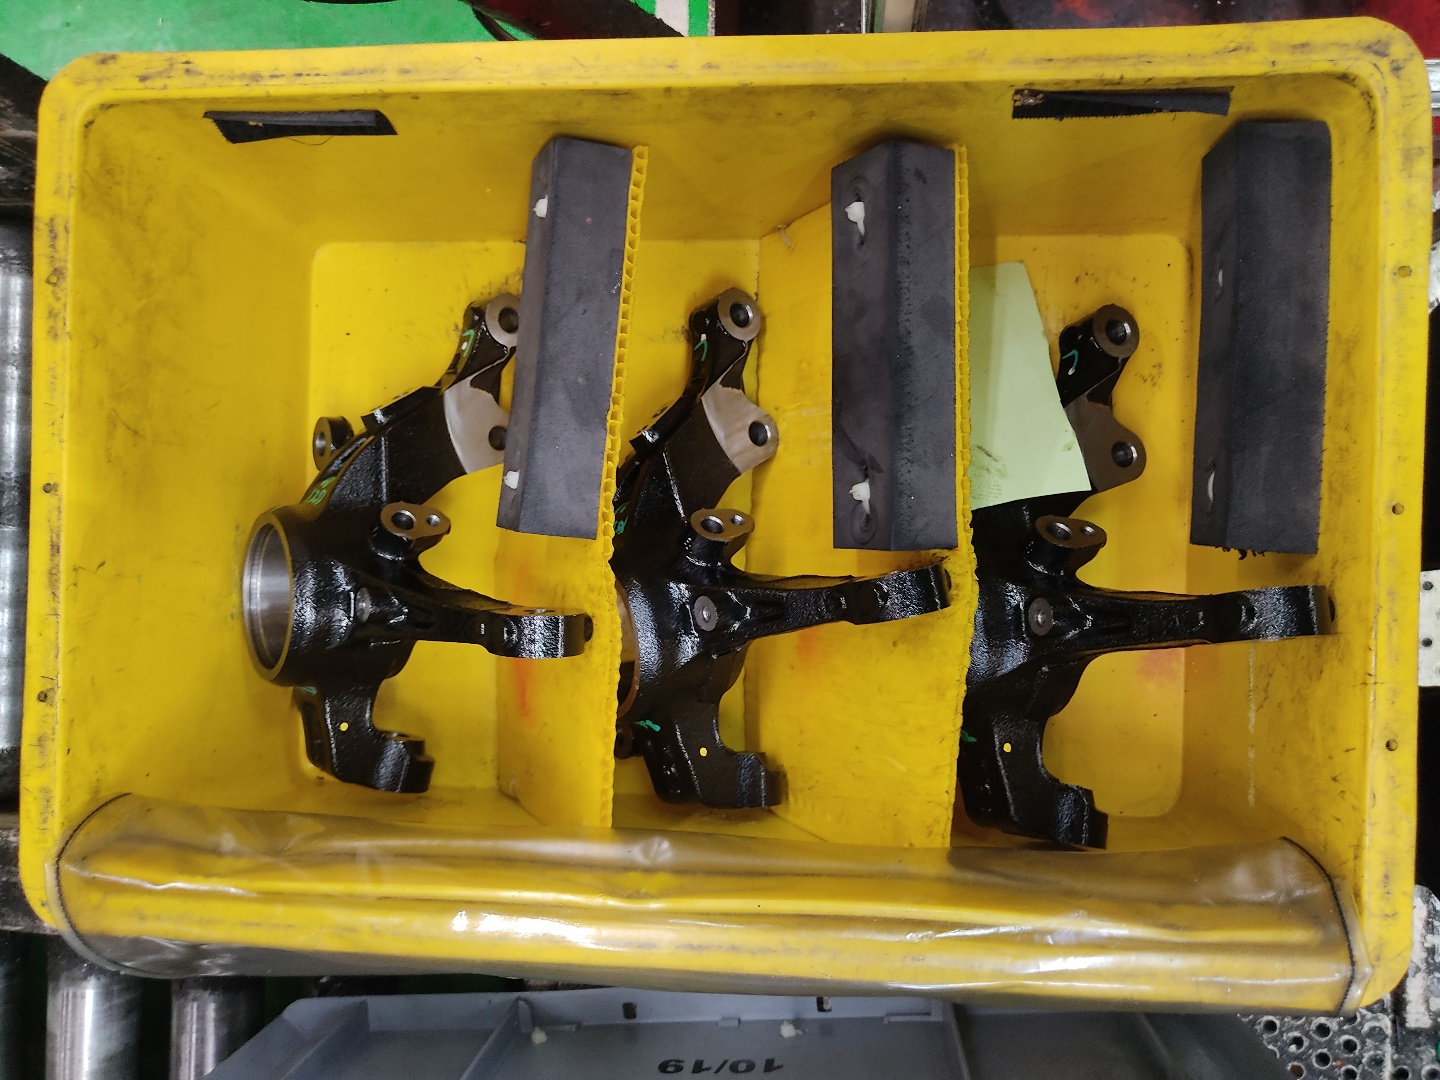abs-lh: (967, 296, 1342, 860), (232, 288, 600, 799), (608, 284, 958, 818)
